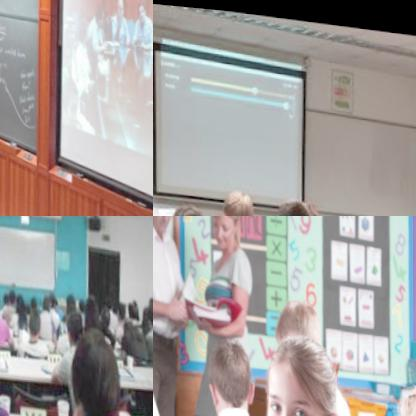head: (260, 328, 339, 416), (66, 317, 121, 413), (205, 335, 256, 413), (273, 285, 324, 355), (216, 179, 252, 216), (395, 354, 416, 416), (272, 189, 312, 216), (209, 216, 243, 246), (165, 194, 208, 216), (292, 188, 322, 216), (61, 300, 80, 332), (23, 301, 40, 334), (123, 285, 140, 312), (81, 285, 98, 311), (83, 202, 114, 216), (96, 295, 112, 320), (142, 294, 153, 325), (37, 287, 50, 312), (25, 286, 36, 307), (4, 278, 14, 301), (14, 284, 23, 306), (113, 292, 124, 310), (45, 283, 54, 301), (0, 281, 8, 301)
